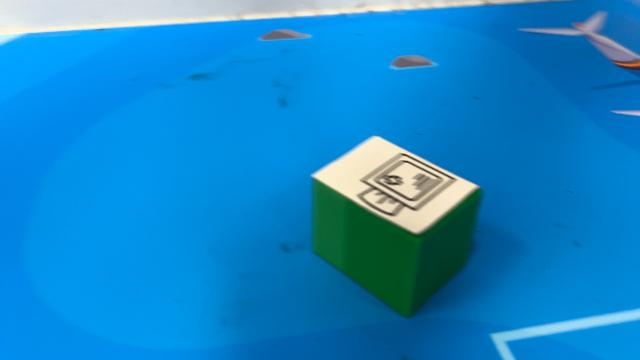napkin: (310, 133, 482, 323)
